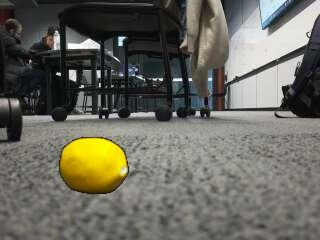lemon: (59, 138, 127, 194)
